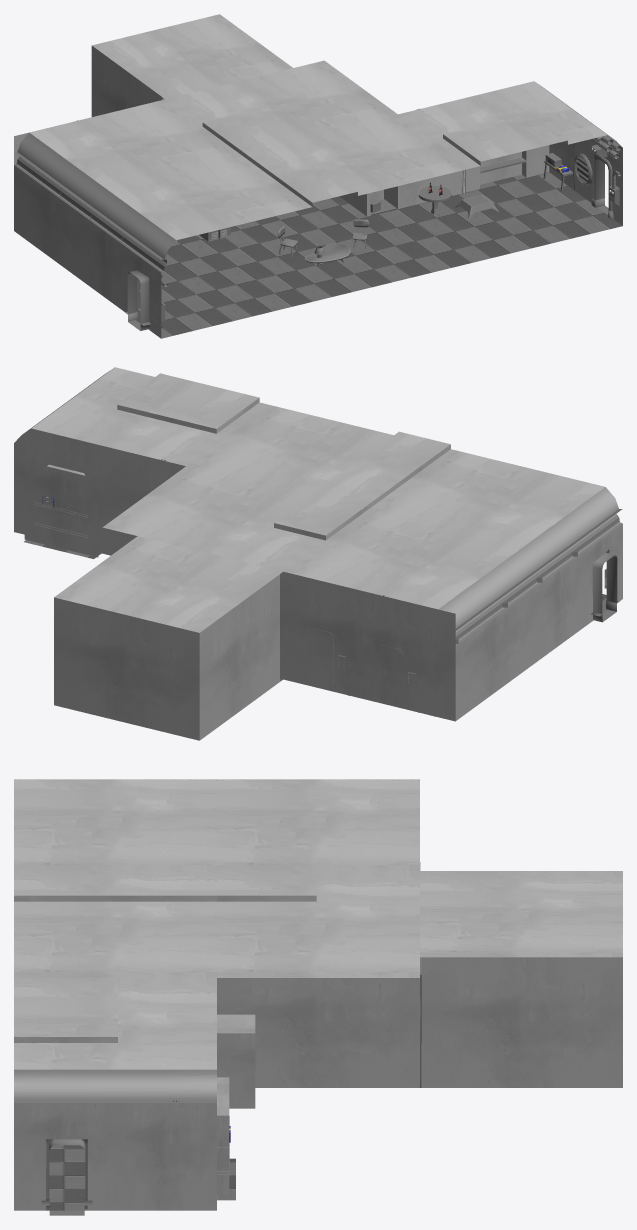
Rendered from MSH_living_quarters_L1_R3_optimized.fbx.
The picture shows the model from 3 angles, top to bottom: view 1: azimuth 30°, elevation 25°; view 2: azimuth 150°, elevation 25°; view 3: azimuth 270°, elevation 25°; orthographic projection. The views are drawn at different scales.
Visible parts, largest first — view 1: lightmap1, lightmap0, MSH_living_quarters_L1_R3_door; view 2: lightmap1, MSH_living_quarters_L1_R3_door; view 3: lightmap1.
Boxes of the visible parts, x1,y1,x2,y2 form: lightmap1: (14, 14, 622, 338); lightmap0: (77, 108, 621, 321); MSH_living_quarters_L1_R3_door: (127, 158, 608, 330); lightmap1: (14, 367, 622, 740); MSH_living_quarters_L1_R3_door: (592, 552, 617, 622); lightmap1: (14, 779, 622, 1210).
Bounding box in the file's own units: 30.91 × 6.17 × 24.77.
4 materials, 3 textured.
